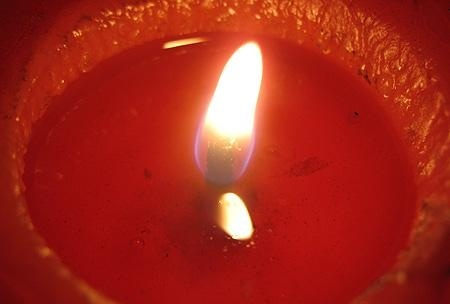fire: (196, 36, 263, 178), (220, 190, 256, 241)
